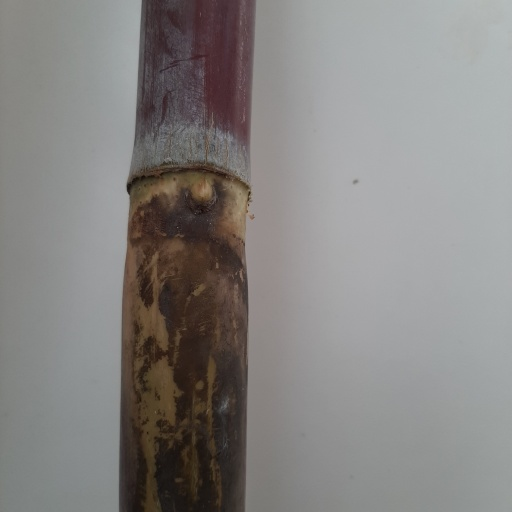Bud: (190, 176, 215, 208)
